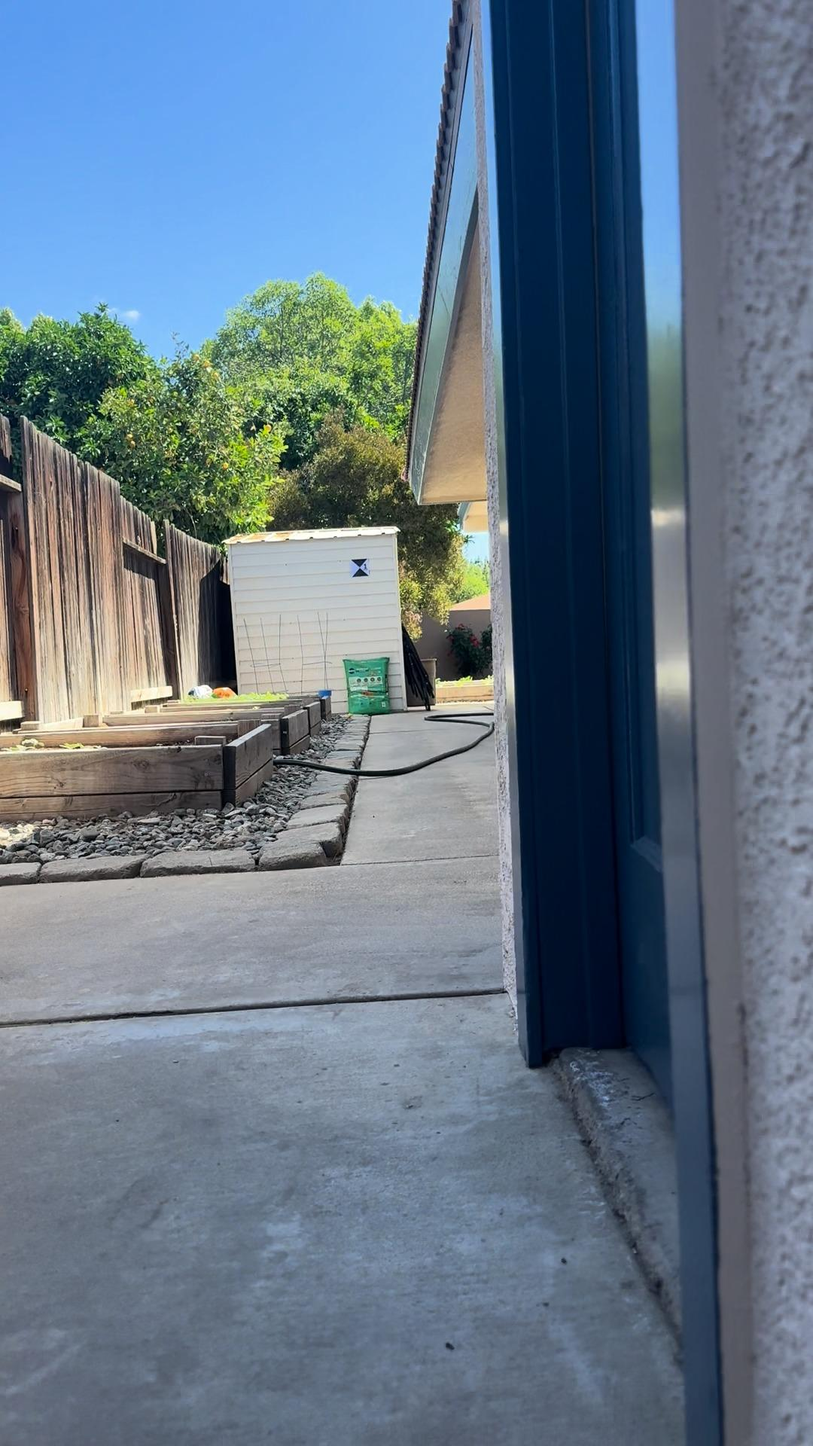target1: (349, 556, 370, 580)
